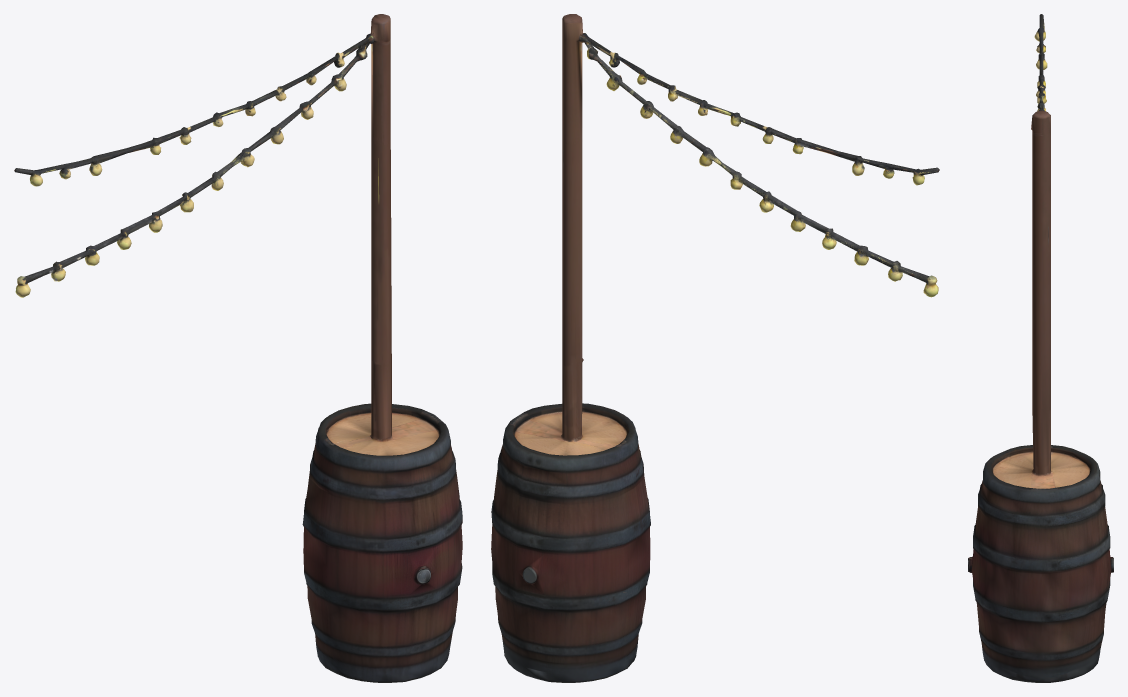
The model's file is barrel_light_post_0125194807_texture.glb.
The picture shows the model from 3 angles, left to right: view 1: azimuth 30°, elevation 25°; view 2: azimuth 150°, elevation 25°; view 3: azimuth 270°, elevation 25°; orthographic projection. The views are drawn at different scales.
Visible parts, largest first — view 1: Mesh_0.001; view 2: Mesh_0.001; view 3: Mesh_0.001.
Part boxes in pixels (bbox=[...]): Mesh_0.001: bbox=[14, 14, 462, 682]; Mesh_0.001: bbox=[491, 14, 939, 682]; Mesh_0.001: bbox=[968, 14, 1113, 682].
Bounding box in the file's own units: 1.79 × 2.5 × 0.6056.
1 material, 1 textured.
